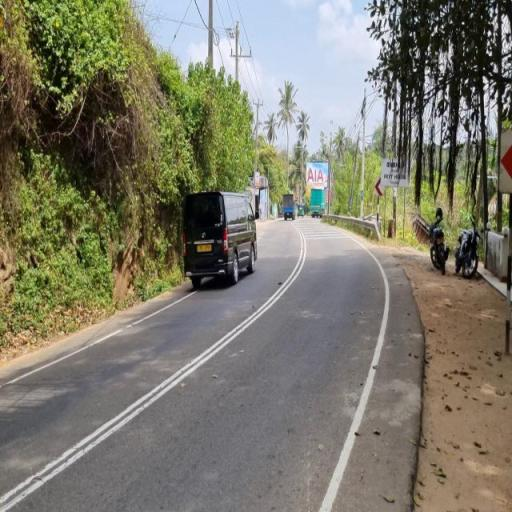double_white_line: (0, 223, 306, 512)
